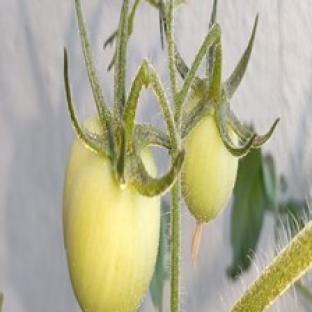Tomato: (63, 138, 160, 311), (182, 115, 238, 222)
